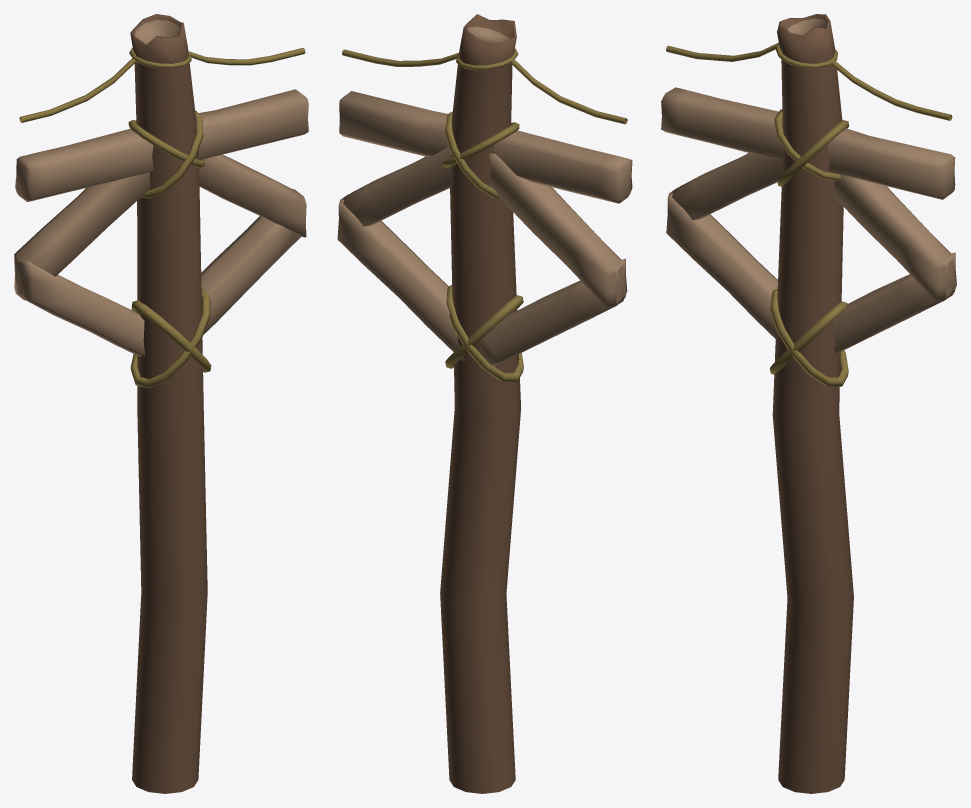
The model's file is waterfront1.fbx.
3 views of the same model, side by side, from view 1: azimuth 30°, elevation 25°; view 2: azimuth 150°, elevation 25°; view 3: azimuth 330°, elevation 25° (orthographic).
Visible parts, largest first — view 1: Cube; view 2: Cube; view 3: Cube.
Part boxes in pixels (x1,y1,x2,y2): Cube: (14,14,308,793); Cube: (337,14,632,793); Cube: (661,14,956,793).
Bounding box in the file's own units: 1.02 × 2.6 × 0.2647.
